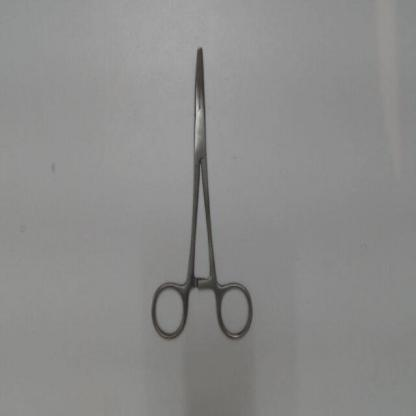Crile Artery Forceps: (145, 40, 262, 352)
